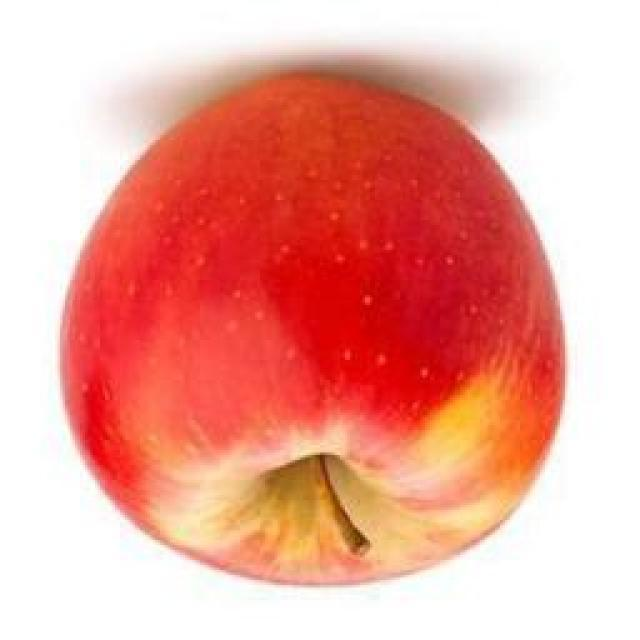Apple: (62, 74, 564, 583)
